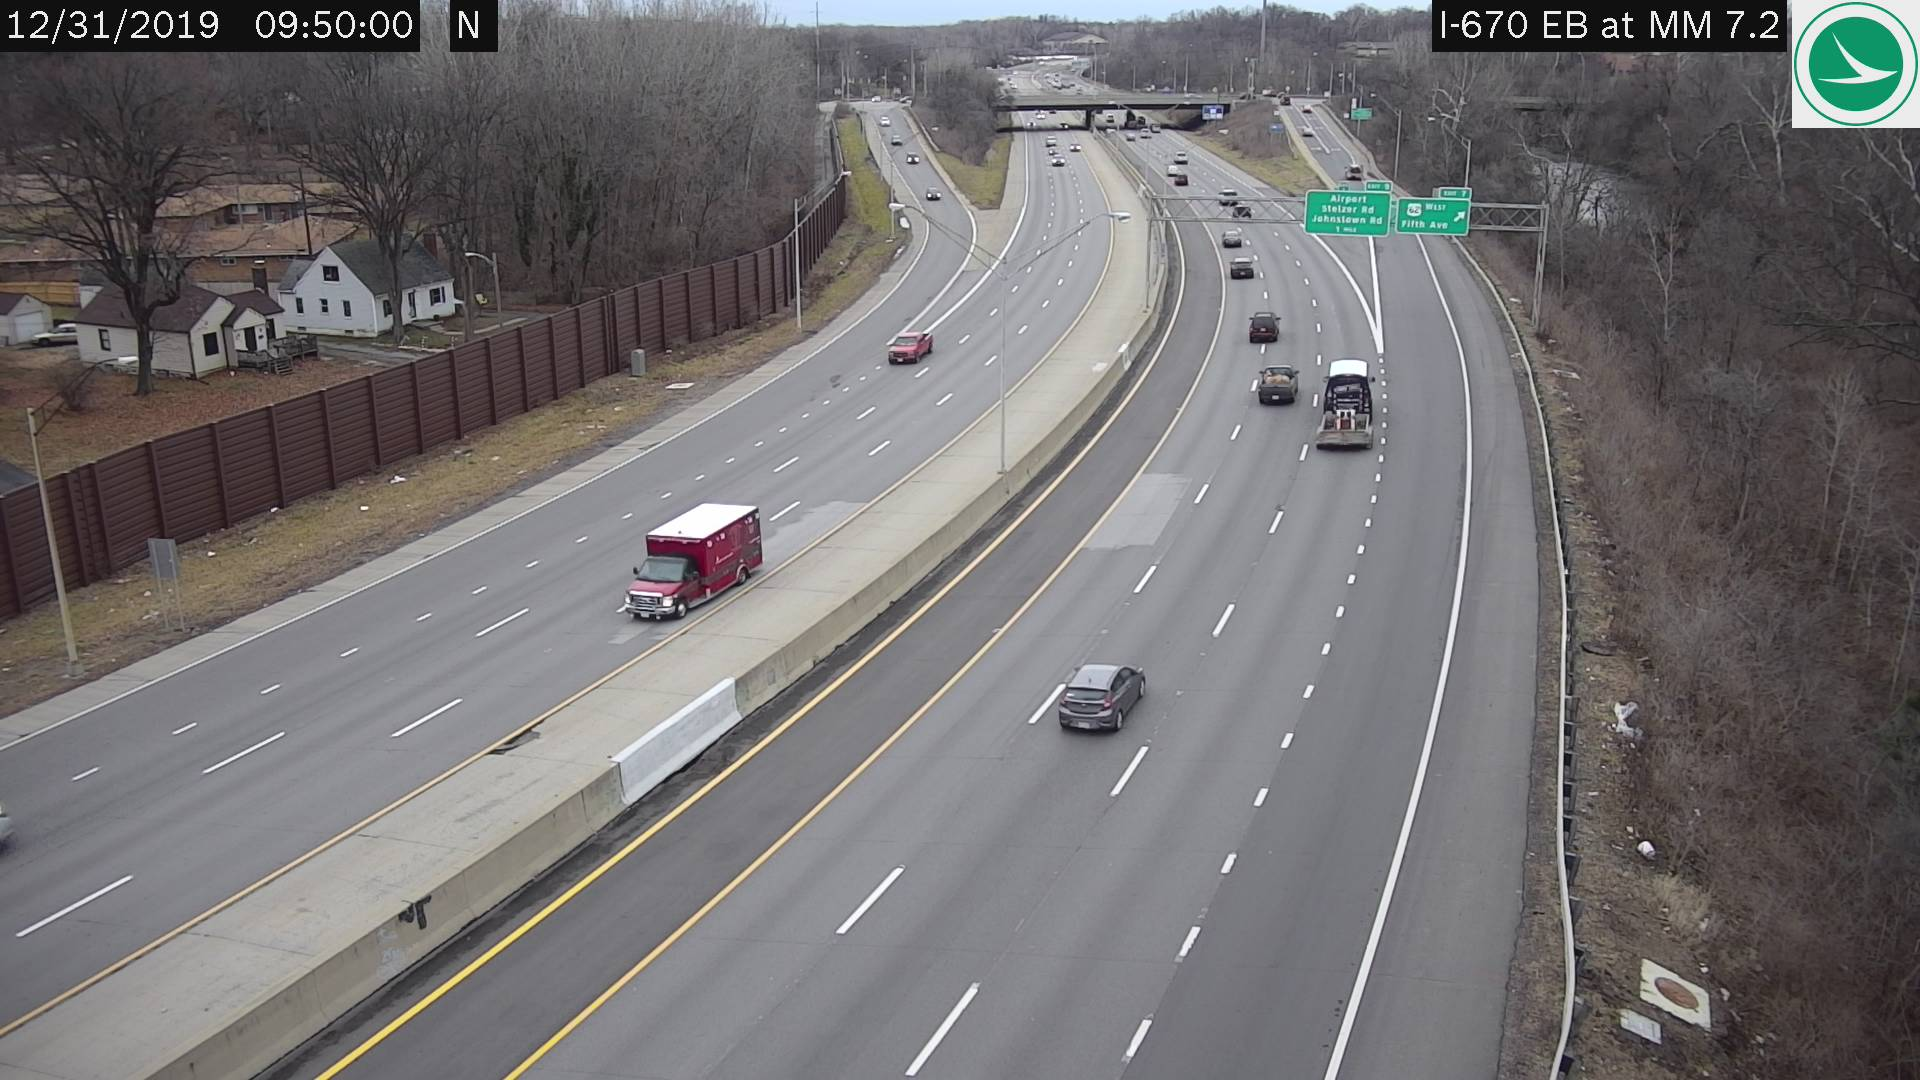car: (626, 504, 762, 620), (1058, 659, 1146, 732), (1317, 356, 1374, 448), (1258, 364, 1302, 404), (886, 328, 934, 364), (1246, 310, 1282, 342), (1230, 255, 1251, 278), (1221, 228, 1241, 248), (1218, 189, 1238, 206), (1232, 204, 1251, 218), (1345, 164, 1361, 179), (924, 186, 942, 200), (903, 152, 920, 164)
